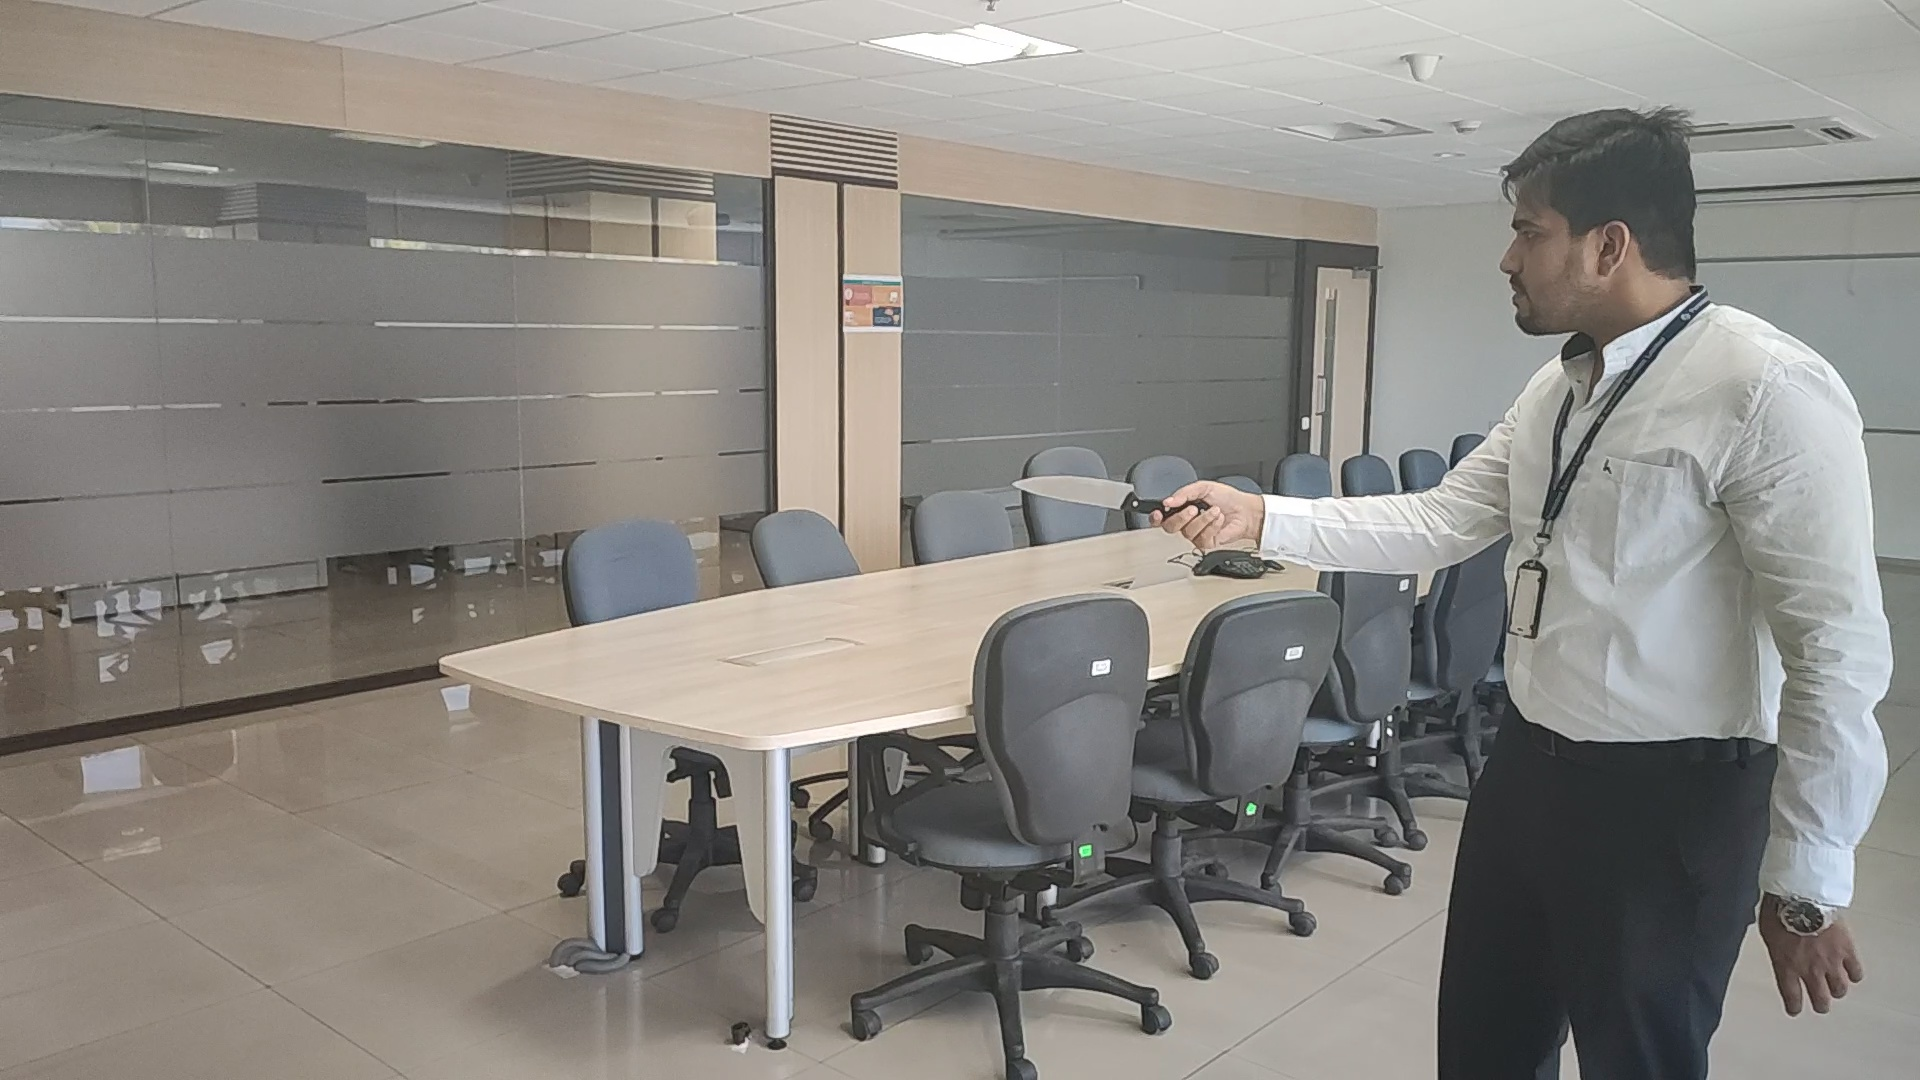knife: (1011, 475, 1164, 514)
